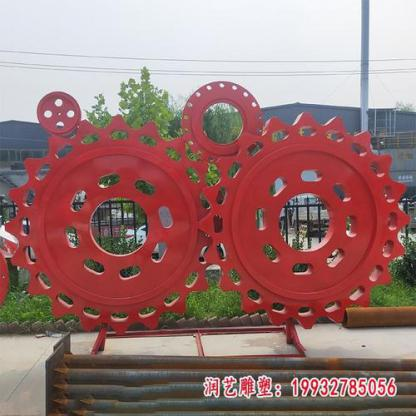FOD: (6, 117, 222, 337), (195, 109, 412, 325)
